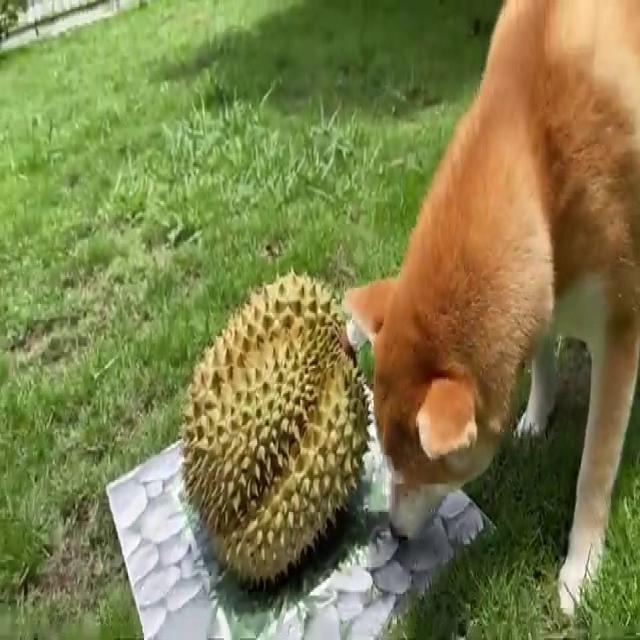durian: (178, 265, 380, 598)
